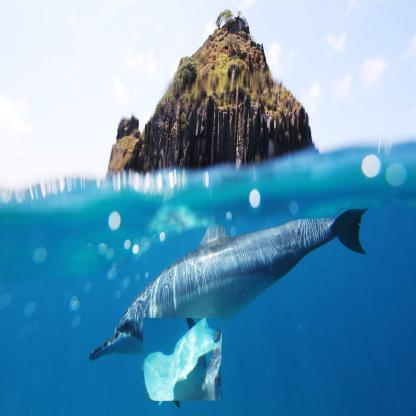plastic-bag: (143, 318, 223, 402)
